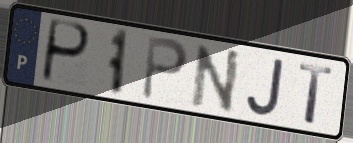1: (107, 26, 132, 100)
J: (244, 57, 287, 119)
N: (190, 43, 243, 116)
P: (38, 16, 92, 86), (139, 33, 191, 103)
T: (297, 61, 336, 127)
